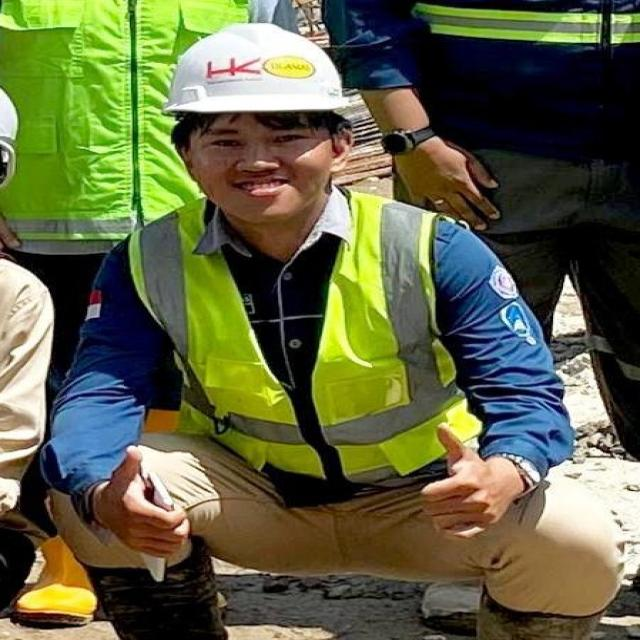safetyhelmet: (164, 22, 359, 184)
